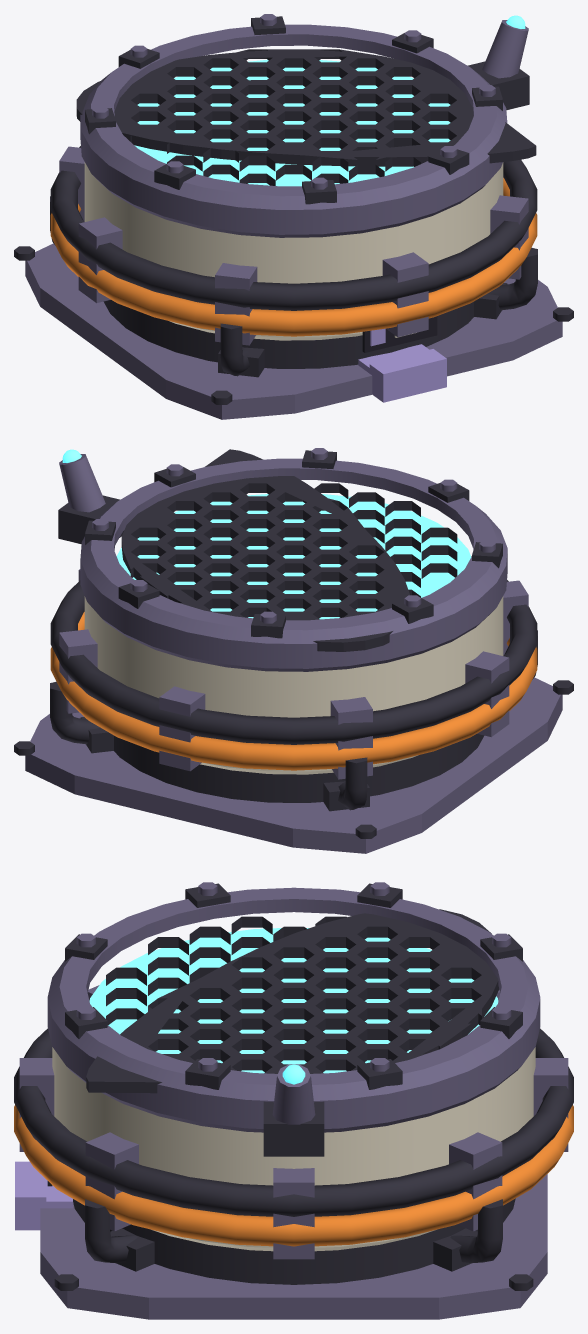
File: ion_engine.glb
3 renders of one model, top to bottom at view 1: azimuth 30°, elevation 25°; view 2: azimuth 150°, elevation 25°; view 3: azimuth 270°, elevation 25°, orthographic. The views are drawn at different scales.
Parts seen in each view (by area): view 1: ion_Graphite, ion_PurpleGrey, ion_CreamHull, ion_Orange, ion_Emissive, ion_Lavender, ion_DecalDark; view 2: ion_Graphite, ion_PurpleGrey, ion_CreamHull, ion_Orange, ion_Emissive; view 3: ion_Graphite, ion_PurpleGrey, ion_CreamHull, ion_Orange, ion_Emissive, ion_Lavender.
Boxes of the visible parts, x1=… form: ion_Graphite: x1=14, y1=16, x2=573, y2=404; ion_PurpleGrey: x1=25, y1=14, x2=562, y2=419; ion_CreamHull: x1=84, y1=162, x2=503, y2=340; ion_Orange: x1=50, y1=178, x2=537, y2=336; ion_Emissive: x1=134, y1=15, x2=525, y2=186; ion_Lavender: x1=358, y1=328, x2=446, y2=402; ion_DecalDark: x1=362, y1=316, x2=437, y2=352; ion_Graphite: x1=14, y1=449, x2=573, y2=838; ion_PurpleGrey: x1=25, y1=448, x2=562, y2=853; ion_CreamHull: x1=84, y1=596, x2=503, y2=774; ion_Orange: x1=50, y1=612, x2=537, y2=770; ion_Emissive: x1=62, y1=449, x2=471, y2=619; ion_Graphite: x1=14, y1=883, x2=573, y2=1290; ion_PurpleGrey: x1=19, y1=882, x2=568, y2=1319; ion_CreamHull: x1=52, y1=1047, x2=535, y2=1251; ion_Orange: x1=14, y1=1105, x2=573, y2=1246; ion_Emissive: x1=89, y1=928, x2=498, y2=1084; ion_Lavender: x1=15, y1=1161, x2=72, y2=1230.
Bounding box in the file's own units: 0.4891 × 0.248 × 0.4635.
